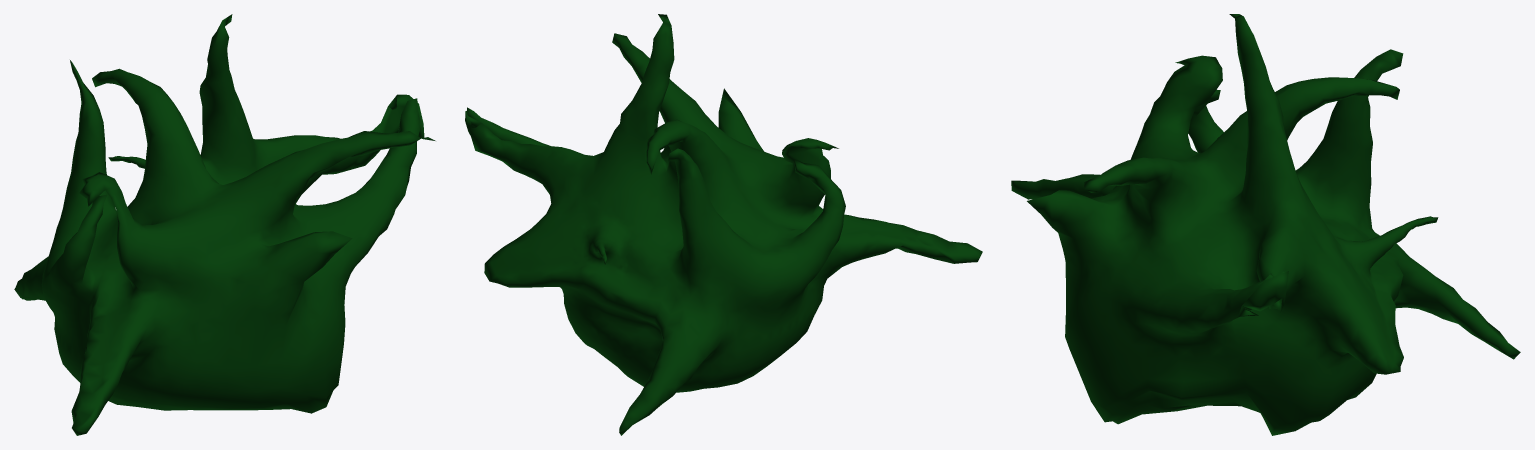
File: jump_cthulhu_0021.obj
3 views of the same model, side by side, from view 1: azimuth 30°, elevation 25°; view 2: azimuth 150°, elevation 25°; view 3: azimuth 270°, elevation 25° (orthographic). The views are drawn at different scales.
Parts seen in each view (by area): view 1: Cube; view 2: Cube; view 3: Cube.
Boxes of the visible parts, x1=… form: Cube: x1=14, y1=14, x2=435, y2=435; Cube: x1=465, y1=14, x2=982, y2=435; Cube: x1=1011, y1=14, x2=1520, y2=435.
Size of the model in its own units: 1.22 by 0.936 by 1.06.
